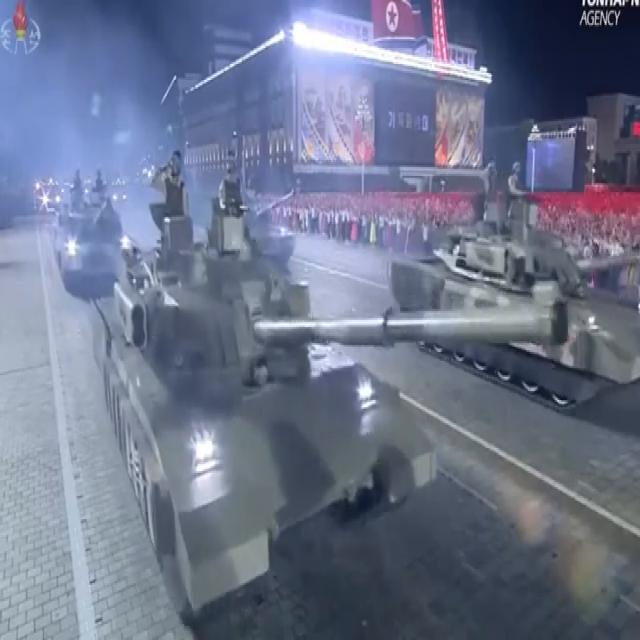north tank: (78, 144, 570, 608), (393, 141, 640, 434), (44, 150, 148, 293)
